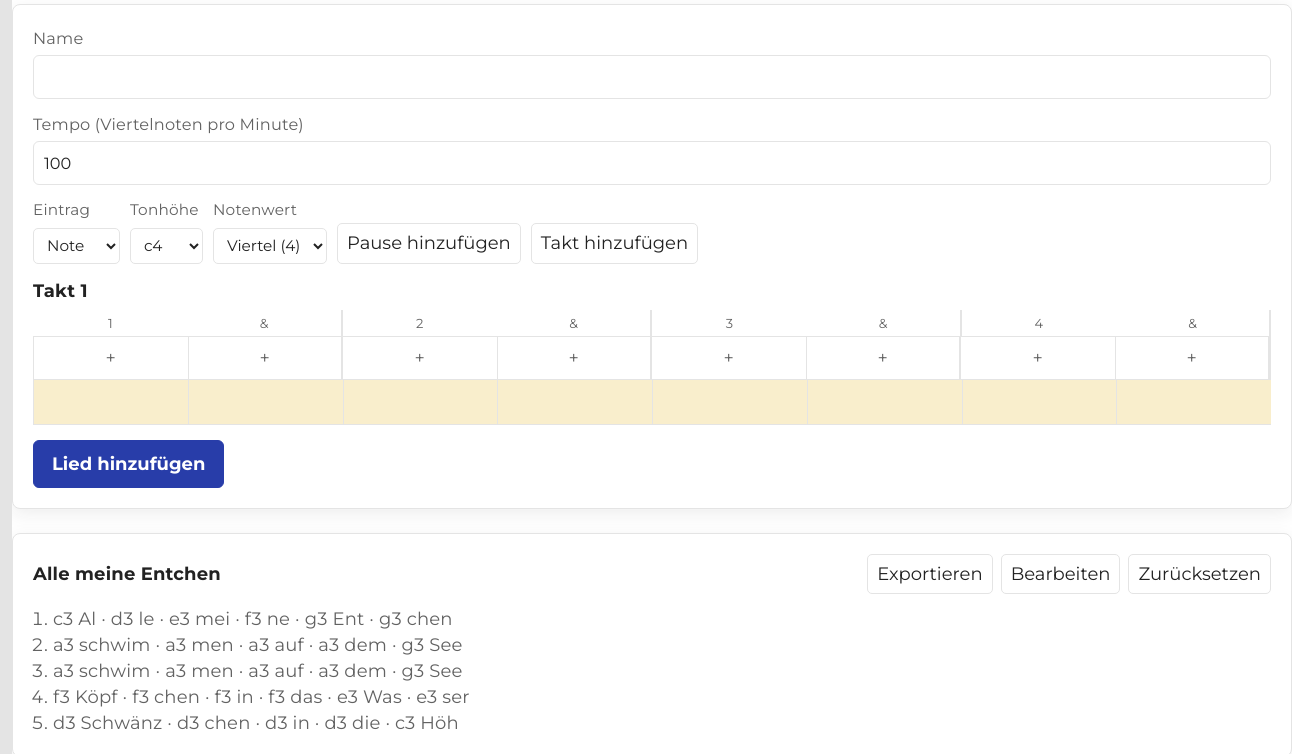
Test: SongCreateSection › bearbeitet ein JSON-Lied und setzt es auf den JSON-Ausgangszustand zurück
Click the button named "Lied \"Alle meine Entchen\" bearbeiten".
click(1060, 574)  # box [1001, 554, 1120, 594]
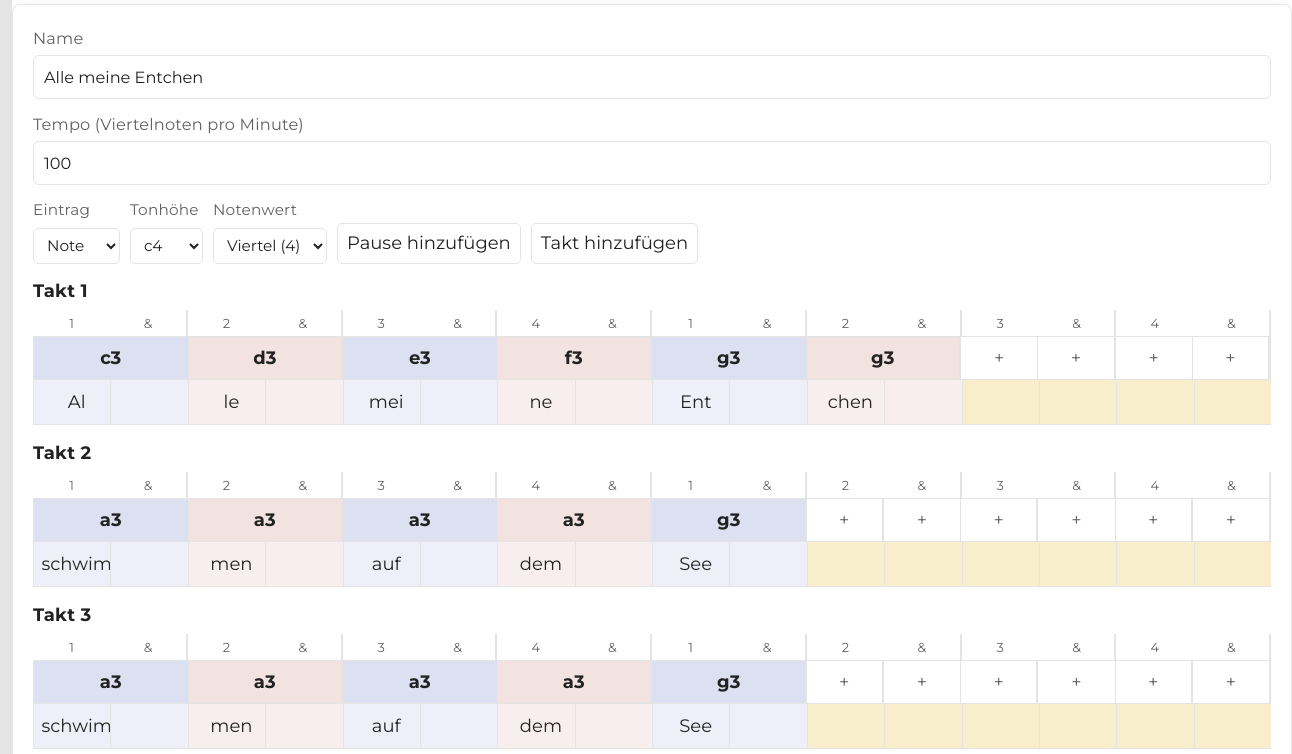
Check: the field labelled "Name" holds "Alle meine Entchen"
Check: the field named "Text auf Takt 1, Achtel 12" is shown, box [884, 379, 972, 425]
Replace the text in the field labelled "Name" with "Entchen geändert" at (652,77), box [33, 55, 1271, 99]
(page scrolled)
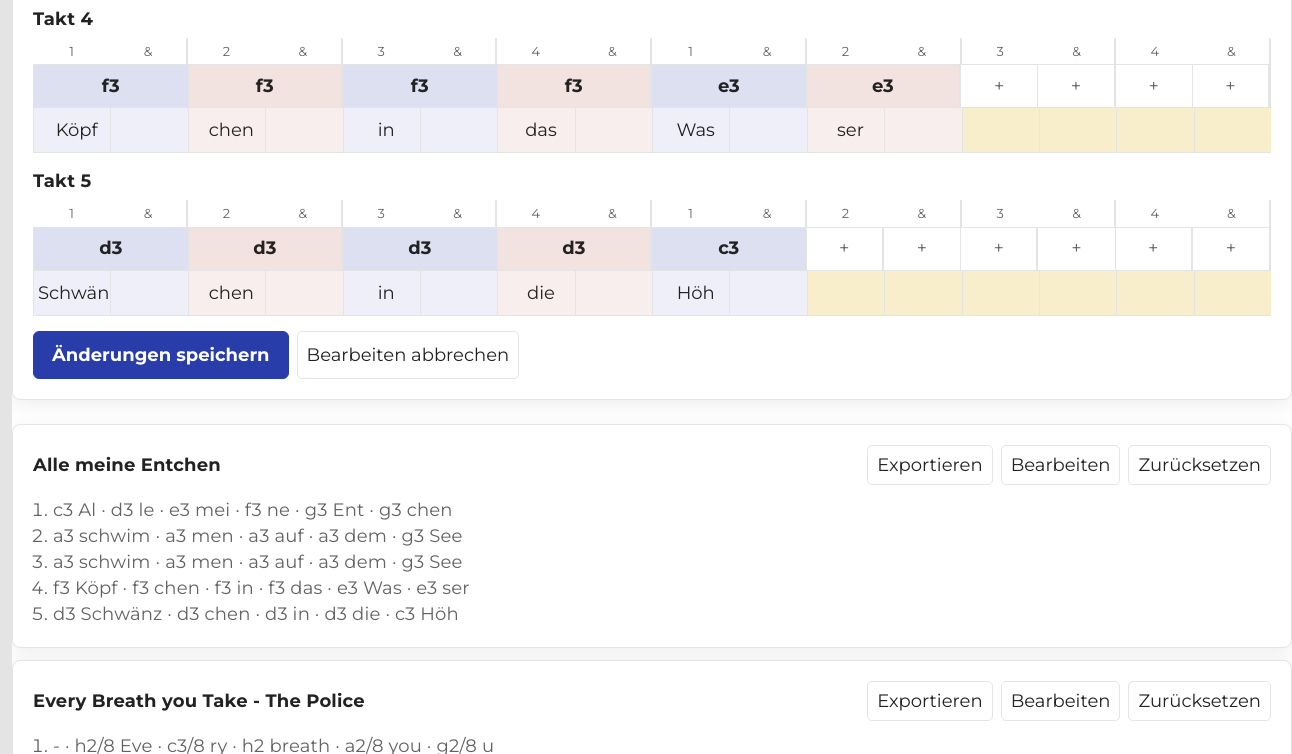
Click the button "Änderungen speichern".
click(161, 355)  # box [33, 330, 289, 379]
(page scrolled)
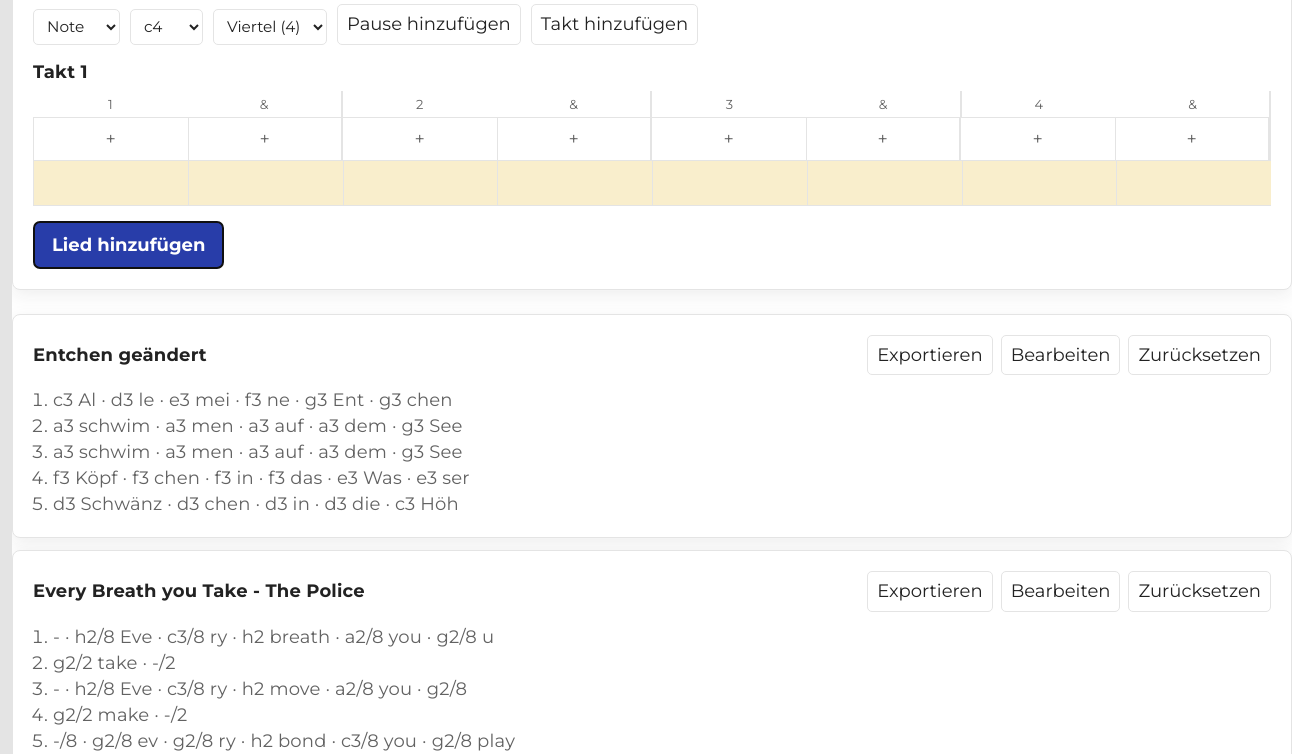
Check: the text "Entchen geändert" is shown, box [33, 342, 207, 368]
Click the button named "Lied \"Entchen geändert\" zurücksetzen".
click(1200, 355)  # box [1128, 335, 1271, 375]
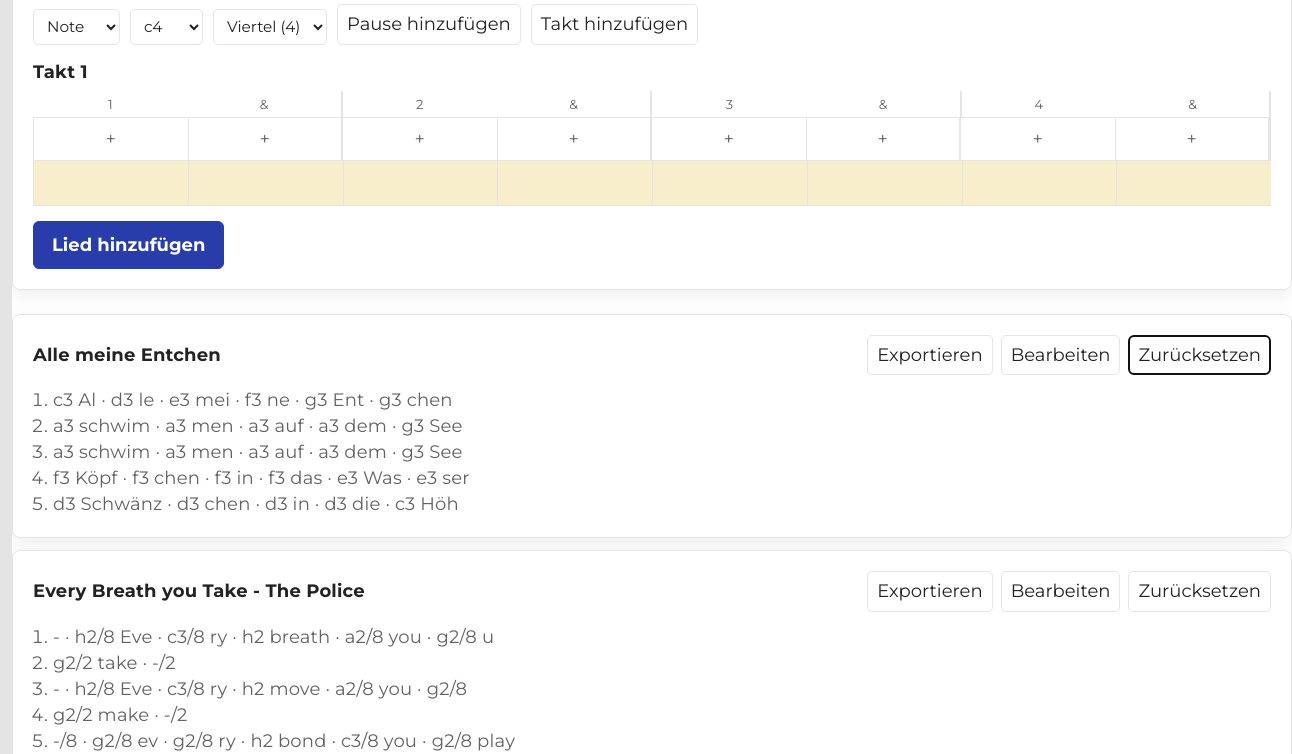
Check: the text "Alle meine Entchen" is shown, box [33, 342, 221, 368]
